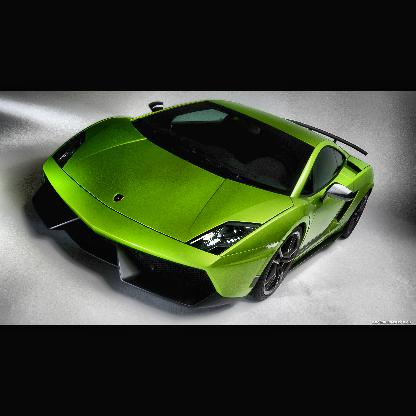Lamborghini Gallardo LP 570-4 Superleggera 2012: (33, 99, 375, 310)
